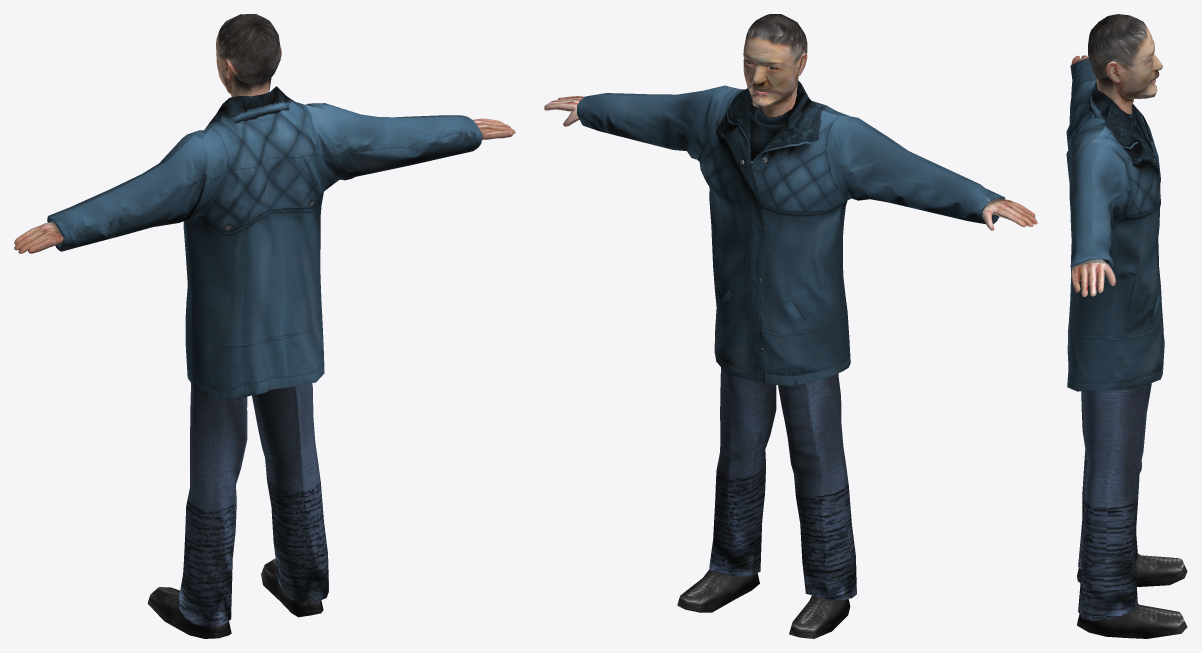
Rendered from civ_male04.glb.
3 views of the same model, side by side, from view 1: azimuth 30°, elevation 25°; view 2: azimuth 150°, elevation 25°; view 3: azimuth 270°, elevation 25° (orthographic).
Parts seen in each view (by area): view 1: cman0004-t; view 2: cman0004-t; view 3: cman0004-t.
Part boxes in pixels (x1,y1,x2,y2): cman0004-t: (14,14,515,638); cman0004-t: (544,14,1037,638); cman0004-t: (1066,14,1187,638).
Bounding box in the file's own units: 87.42 × 101 × 18.74.
Materials: 1 (1 with a texture image).
